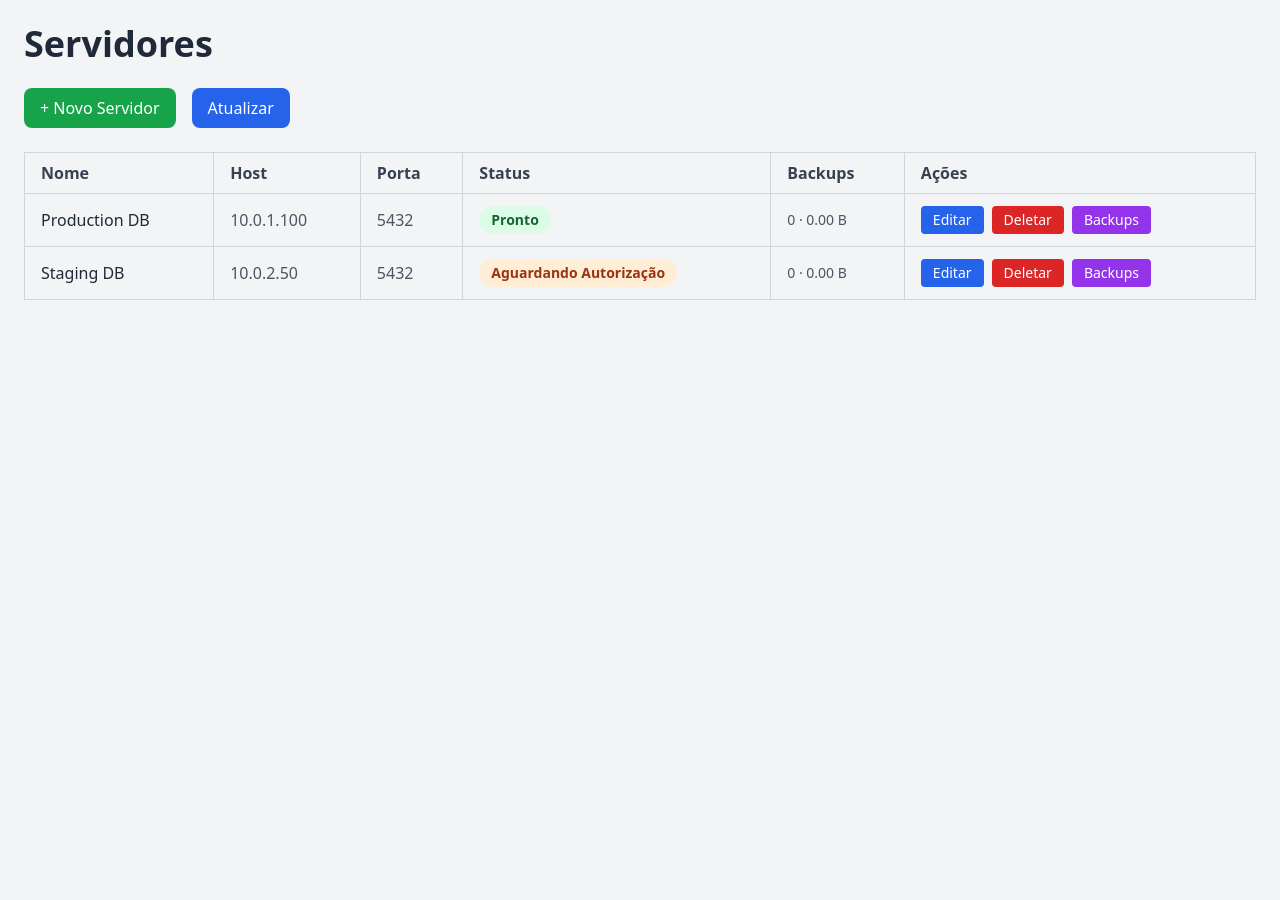
Test: ServersView › should show confirmation dialog on delete button click without deleting
The width and height of the screenshot is (1280, 900).
Click the button with test id "delete-btn-1": (1028, 220) [992,206,1064,234]
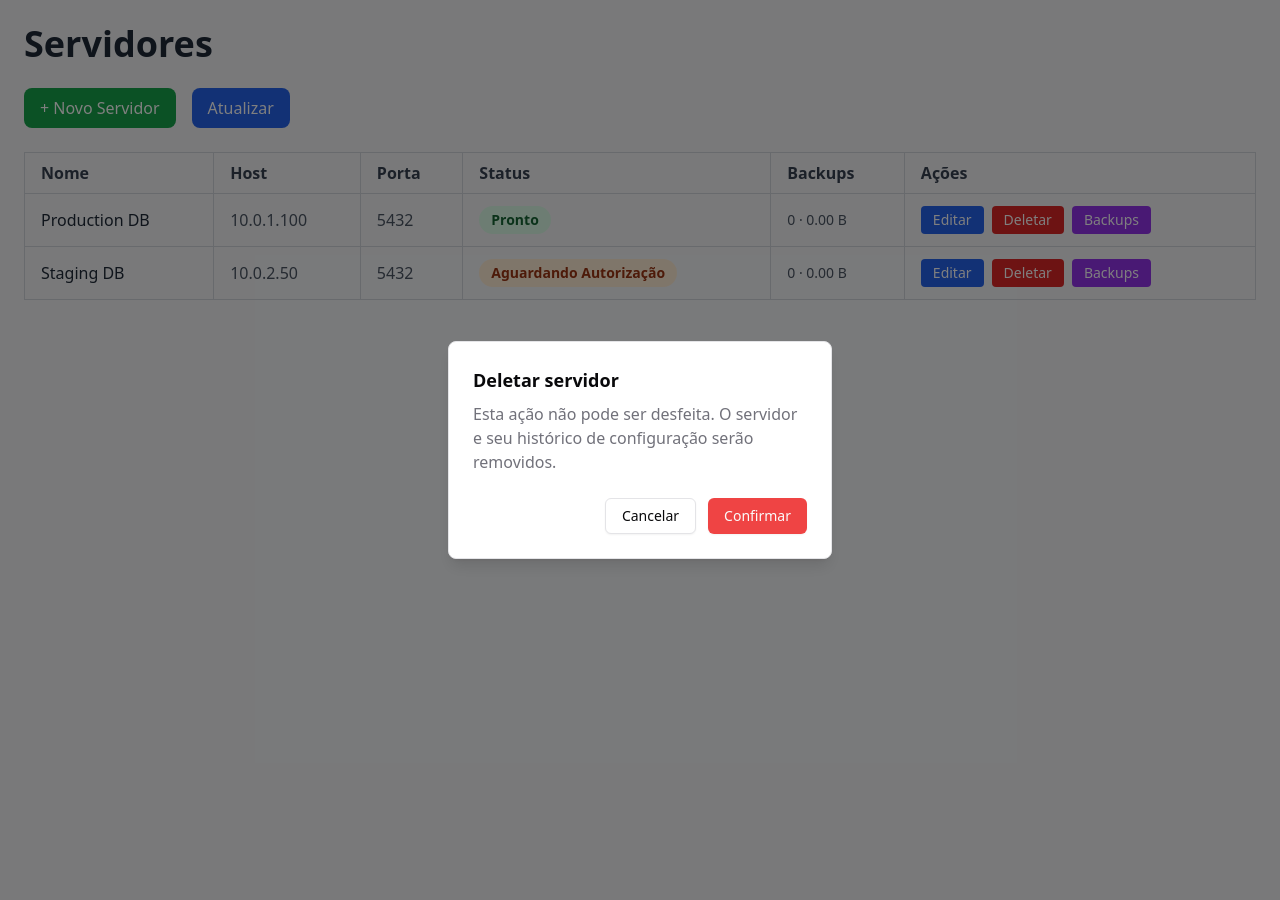
Expected: the element with test id "confirm-dialog" is shown
